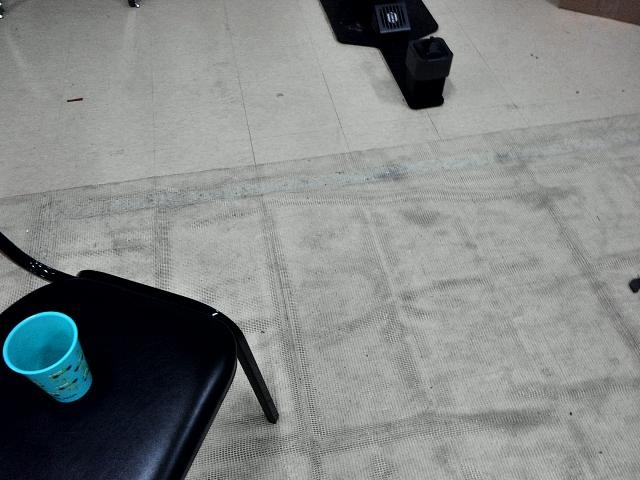coffee_cup: (2, 311, 93, 403)
